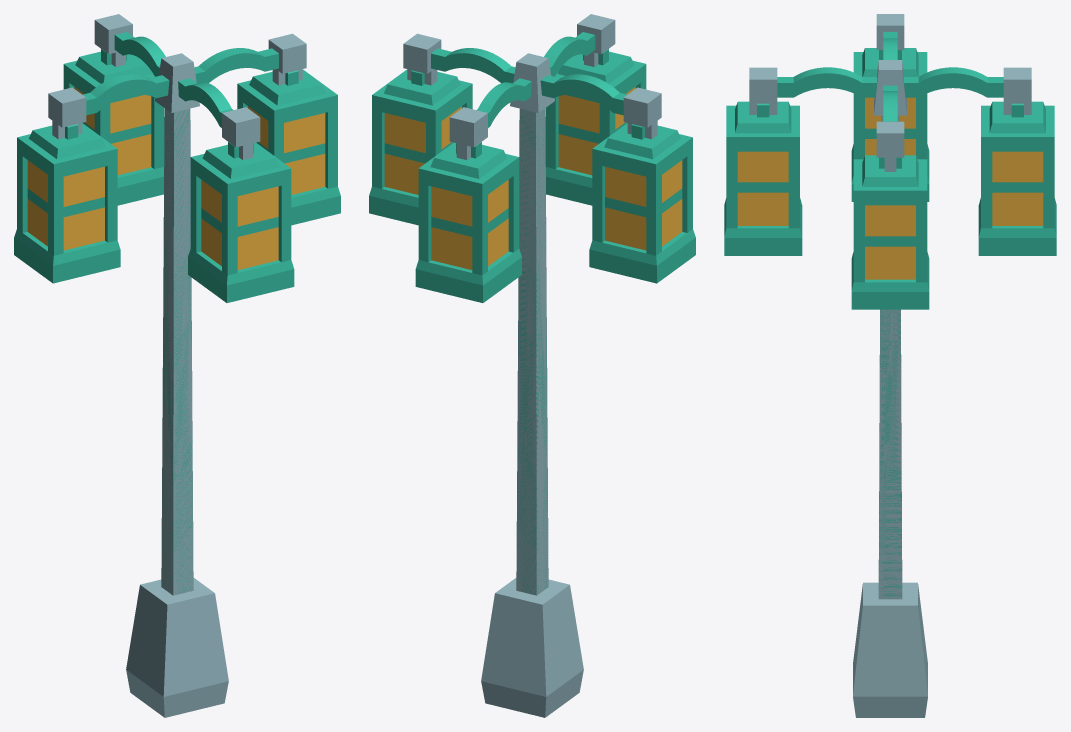
Rendered from lightpostAll.obj.
The picture shows the model from 3 angles, left to right: view 1: azimuth 30°, elevation 25°; view 2: azimuth 150°, elevation 25°; view 3: azimuth 270°, elevation 25°; orthographic projection.
Parts seen in each view (by area): view 1: lightpostAll; view 2: lightpostAll; view 3: lightpostAll.
Boxes of the visible parts, bbox=[...] form: lightpostAll: bbox=[14, 14, 340, 717]; lightpostAll: bbox=[369, 14, 695, 717]; lightpostAll: bbox=[724, 14, 1056, 717].
Bounding box in the file's own units: 0.6225 × 1.32 × 0.6225.
